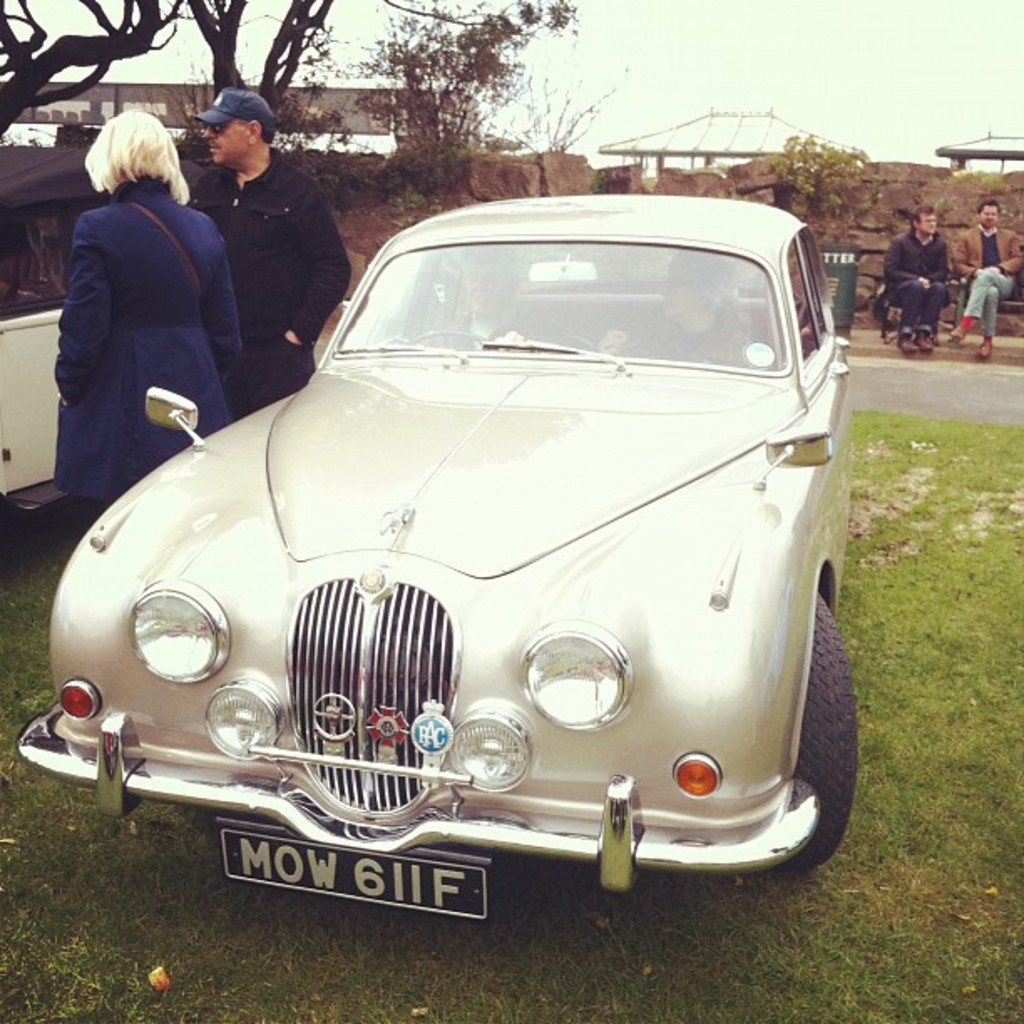Tree: (0, 0, 629, 306)
